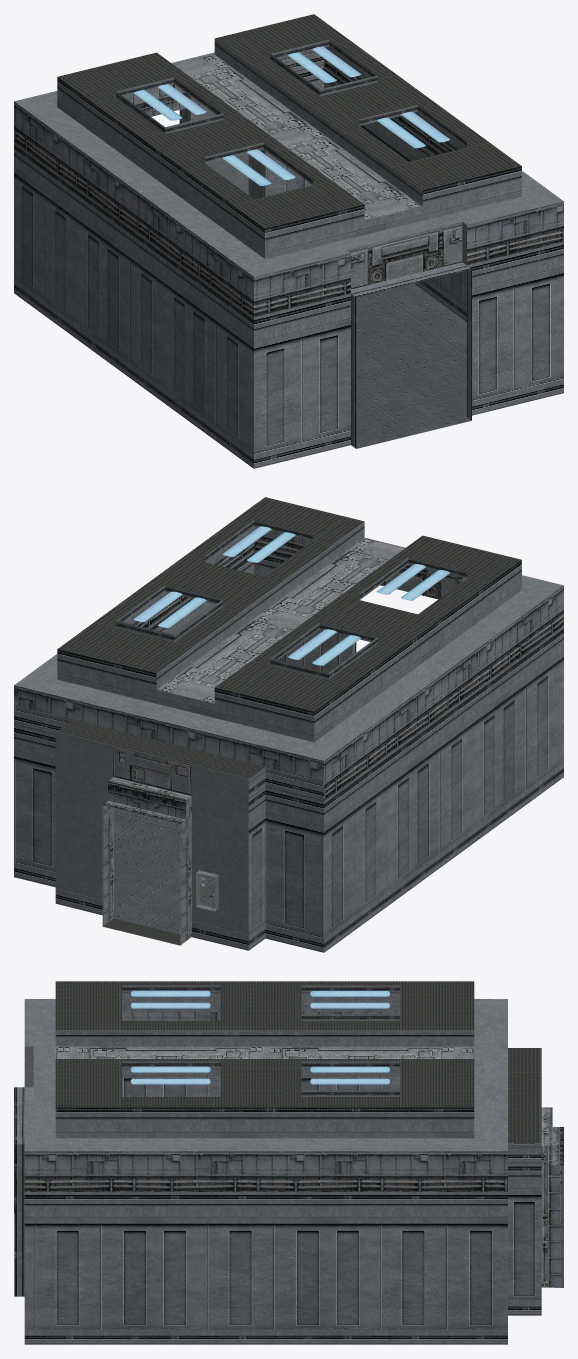
Rendered from poi_all_impl_bunker_s03_r5_room1_mesh_r7.fbx.
3 views of the same model, one above another, from view 1: azimuth 30°, elevation 25°; view 2: azimuth 150°, elevation 25°; view 3: azimuth 270°, elevation 25° (orthographic).
Parts seen in each view (by area): view 1: mesh_node; view 2: mesh_node; view 3: mesh_node.
Boxes of the visible parts, left/top/right/bottom form: mesh_node: left=14, top=14, right=563, bottom=468; mesh_node: left=14, top=497, right=563, bottom=952; mesh_node: left=14, top=981, right=563, bottom=1344.
Bounding box in the file's own units: 8.03 × 5.69 × 12.25.
